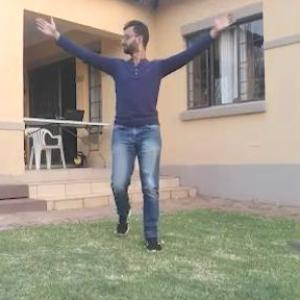takeoff: (34, 17, 226, 226)
